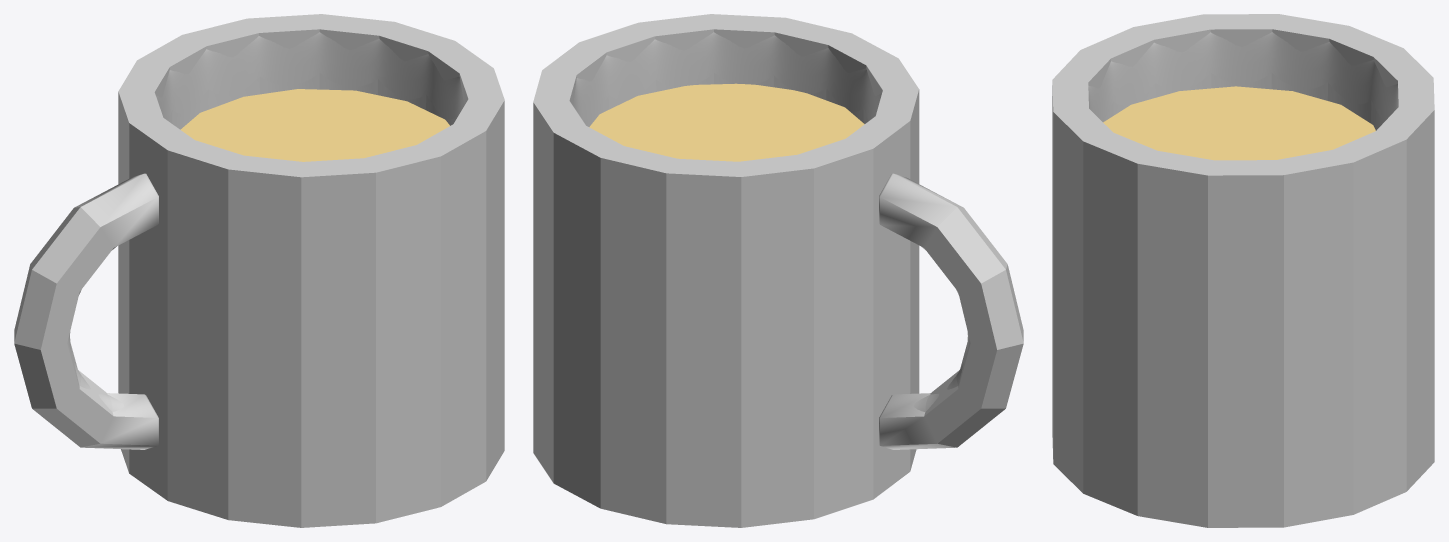
File: cup.gltf
3 views of the same model, side by side, from view 1: azimuth 30°, elevation 25°; view 2: azimuth 150°, elevation 25°; view 3: azimuth 270°, elevation 25° (orthographic).
Parts seen in each view (by area): view 1: cup origin, cup, cup_fluid; view 2: cup origin, cup_fluid, cup; view 3: cup origin, cup, cup_fluid.
Boxes of the visible parts, x1,y1,x2,y2 form: cup origin: (14, 14, 504, 527); cup: (67, 32, 464, 411); cup_fluid: (180, 89, 449, 161); cup origin: (533, 14, 1023, 527); cup_fluid: (589, 83, 864, 161); cup: (573, 32, 970, 411); cup origin: (1052, 14, 1434, 527); cup: (1088, 32, 1398, 130); cup_fluid: (1103, 86, 1375, 160).
Size of the model in its own units: 0.4413 by 0.32 by 0.3146.
